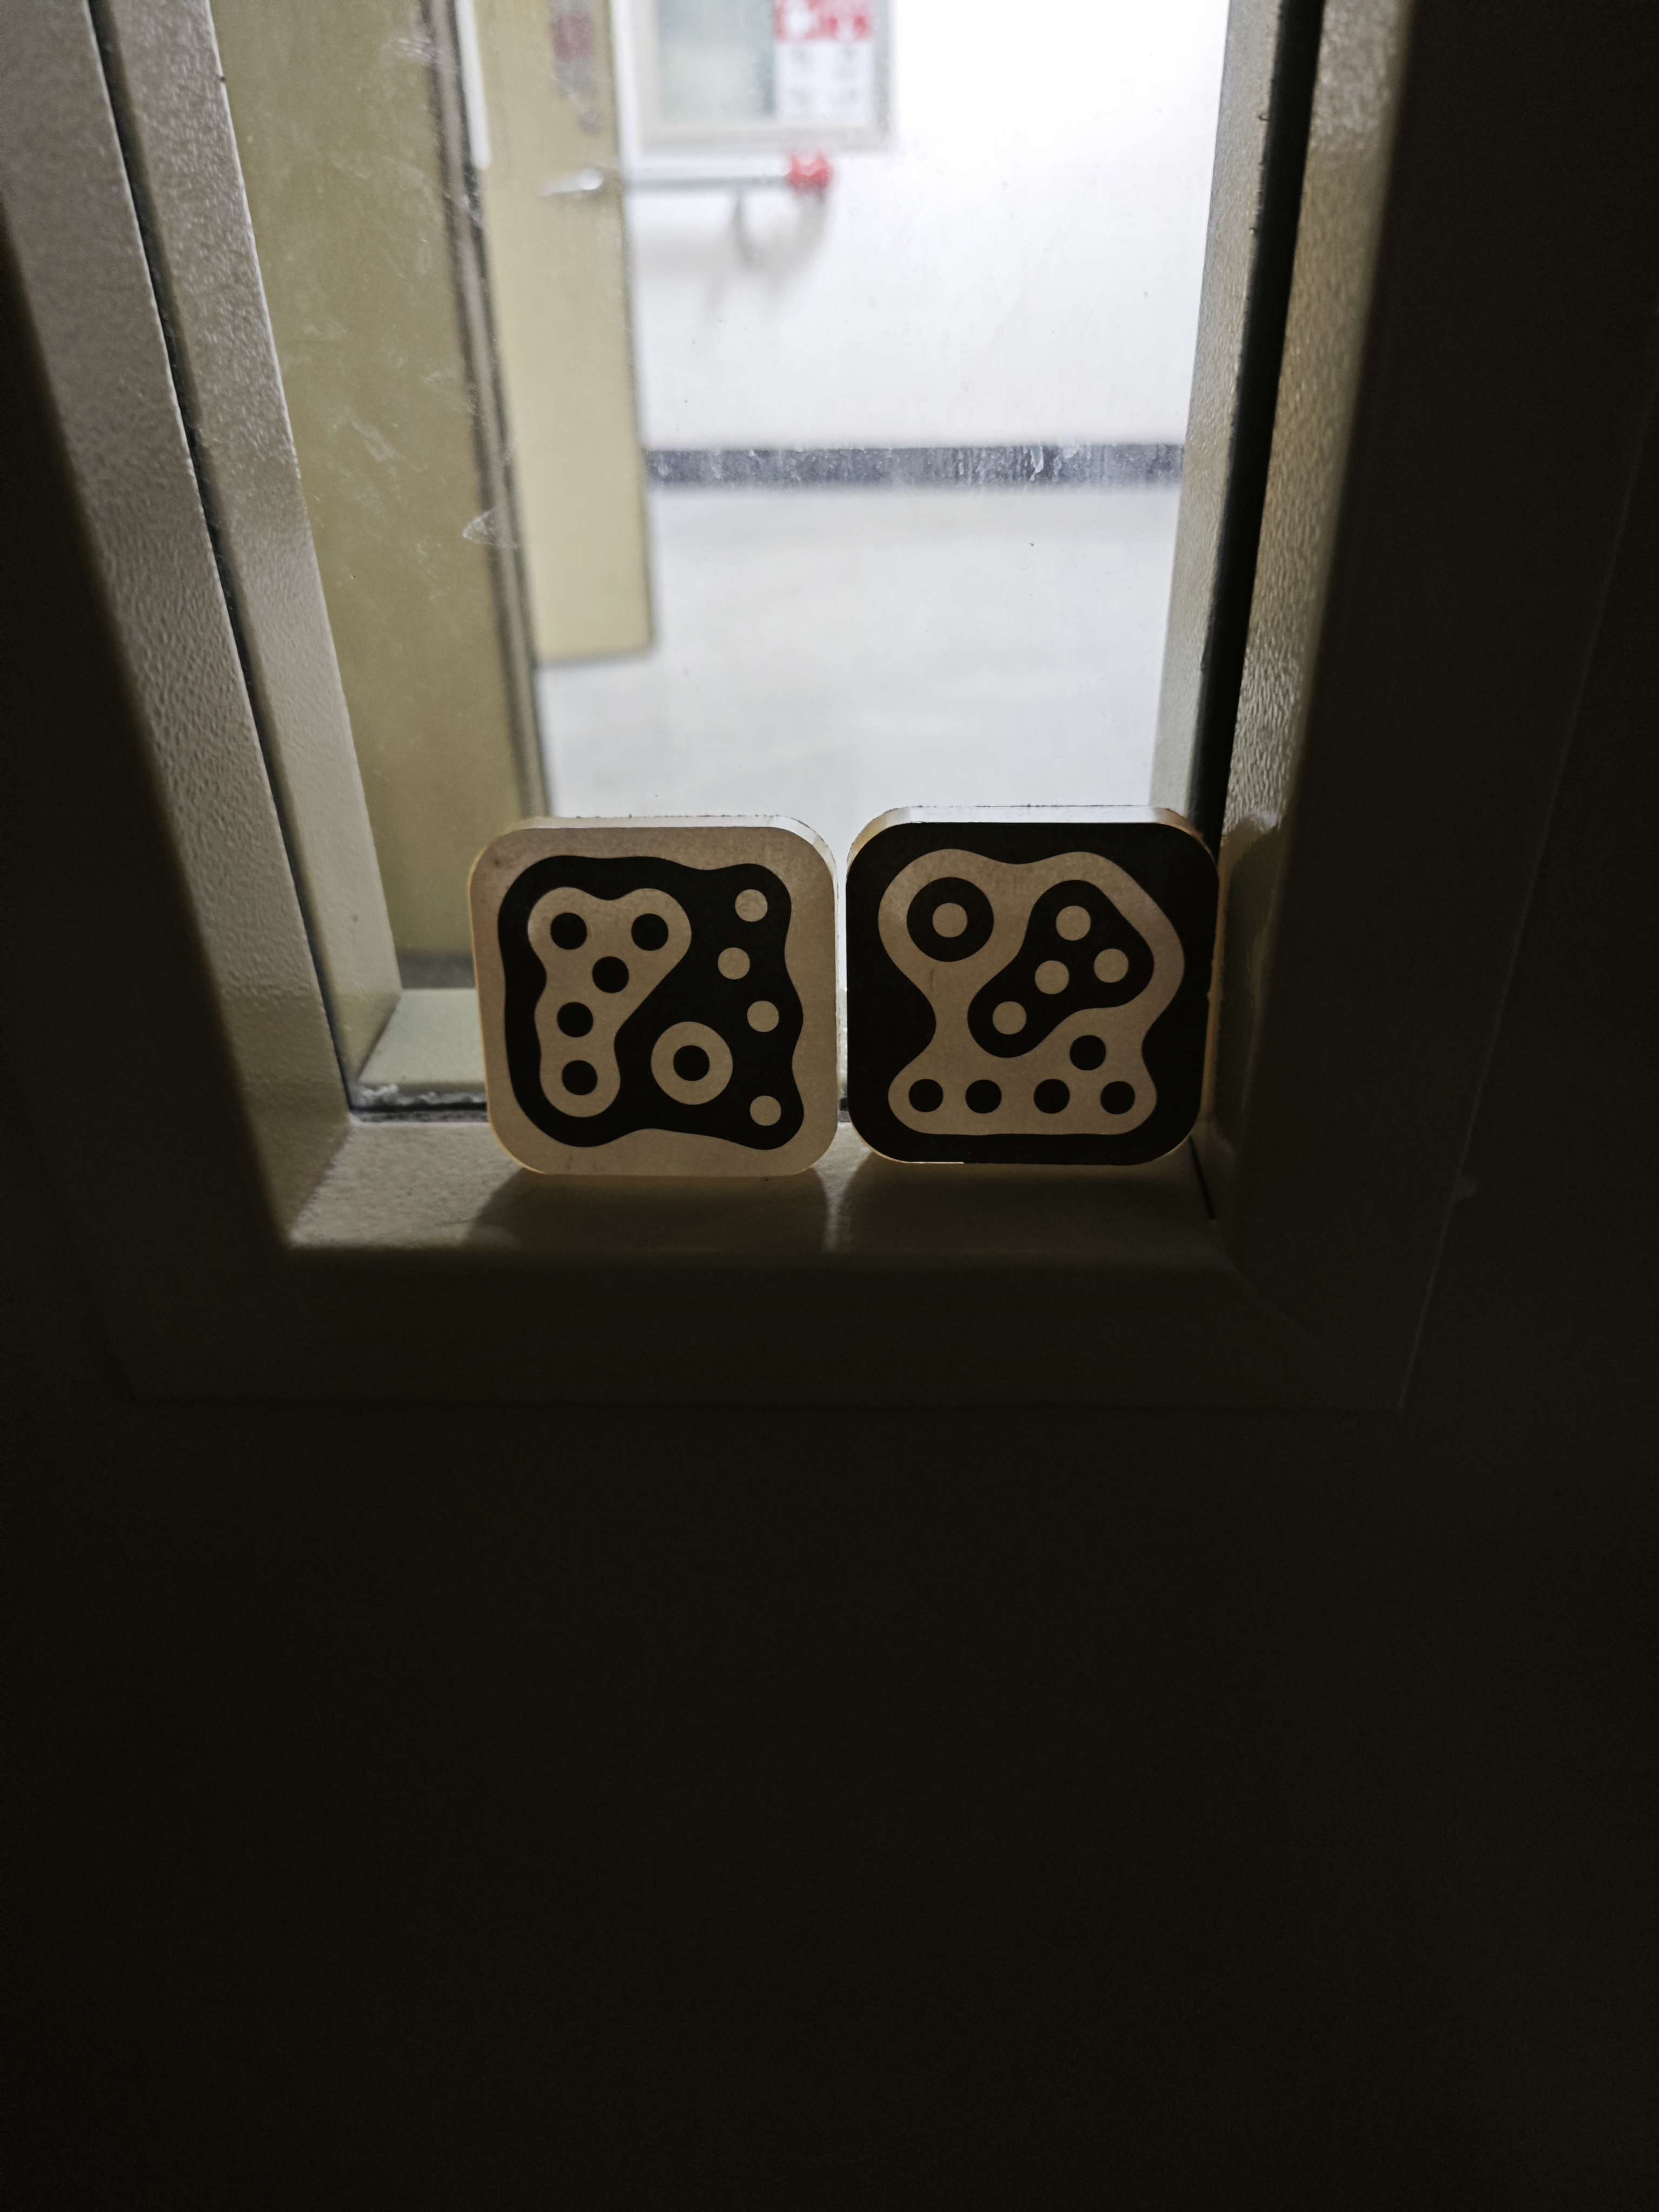mark1: (488, 841, 814, 1165)
mark2: (875, 840, 1180, 1158)
